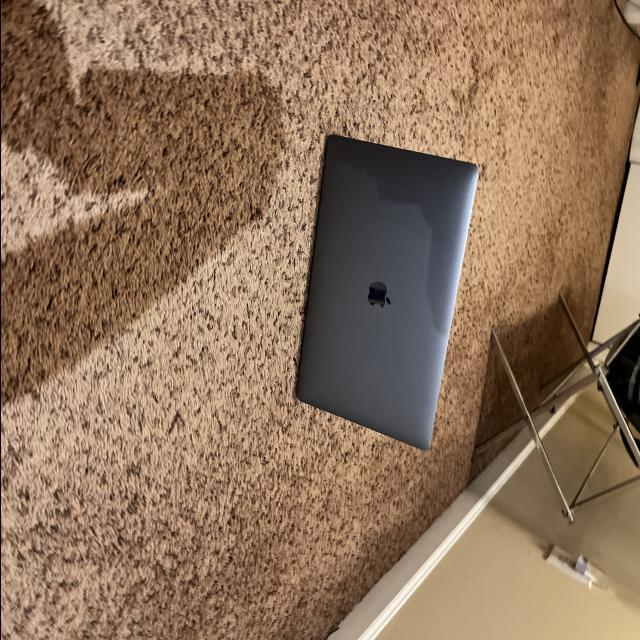laptop: (293, 132, 480, 451)
